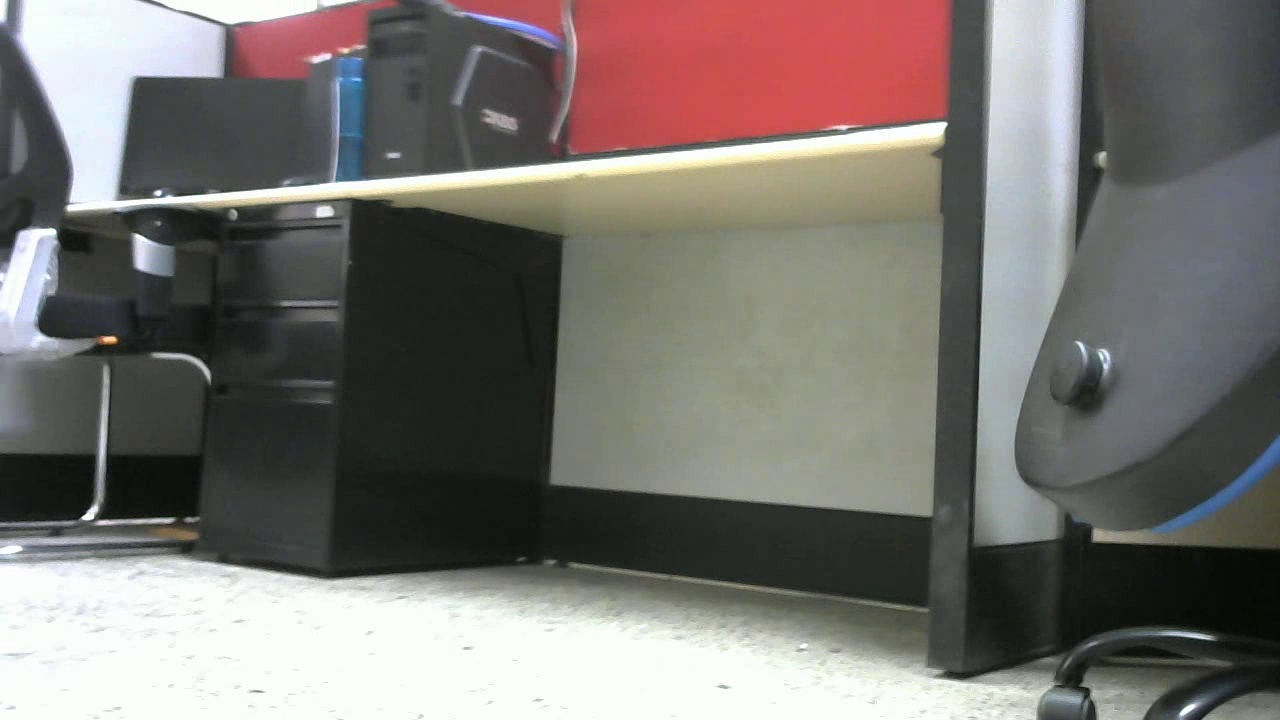chair: (1, 29, 221, 552)
